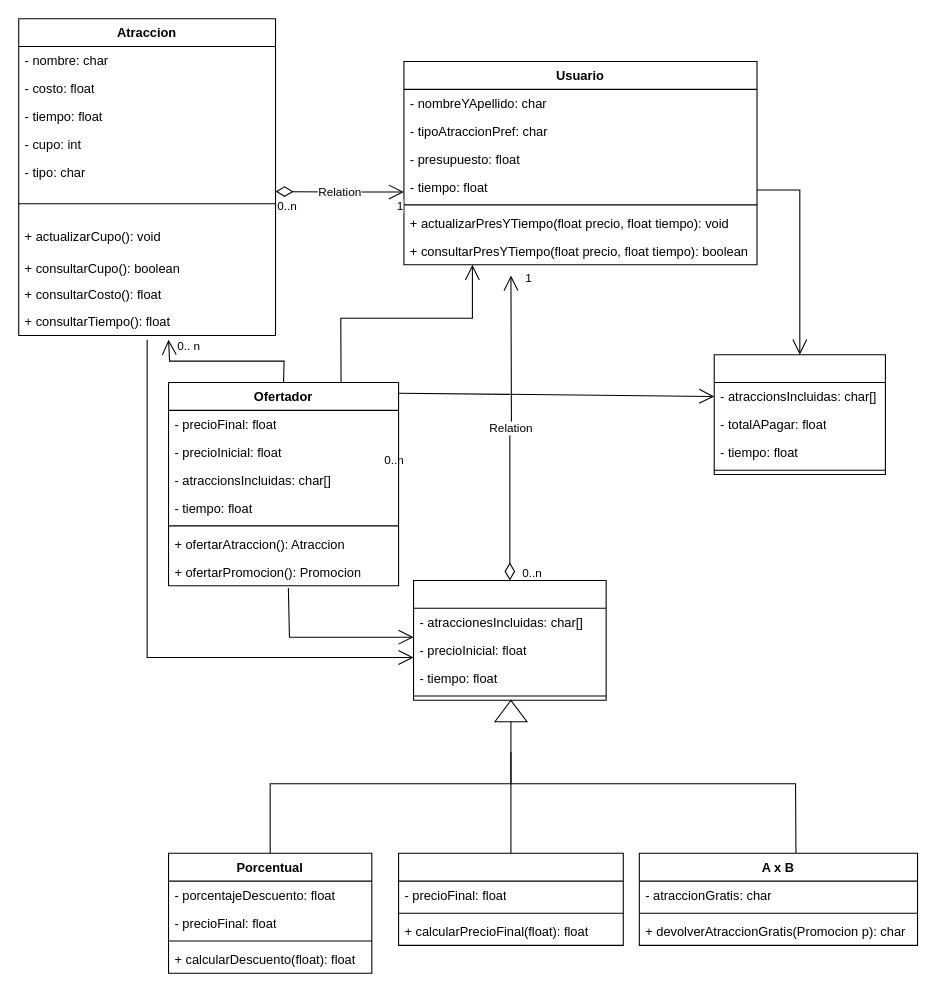
Some shapes in this 936 by 995 pixel diagram are drawn without their labels. The box of each missing label's shape, as (x1, y1, x2, y2) in pixels:
Absoluta: (398, 852, 623, 945)
Promocion: (412, 579, 606, 700)
Totalizador de Itinerario: (713, 354, 885, 475)
